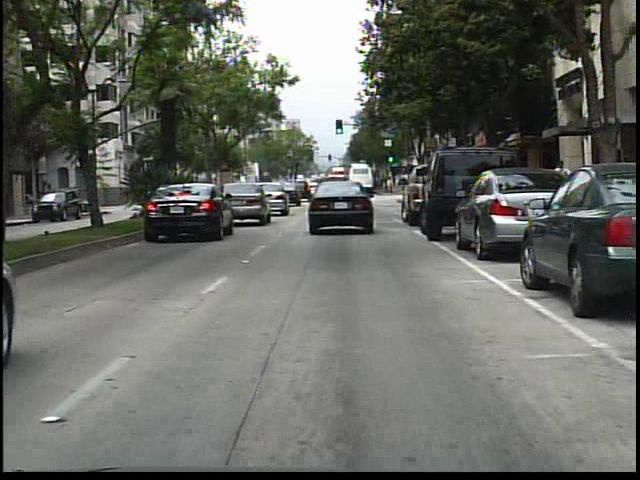person: (549, 156, 572, 217)
